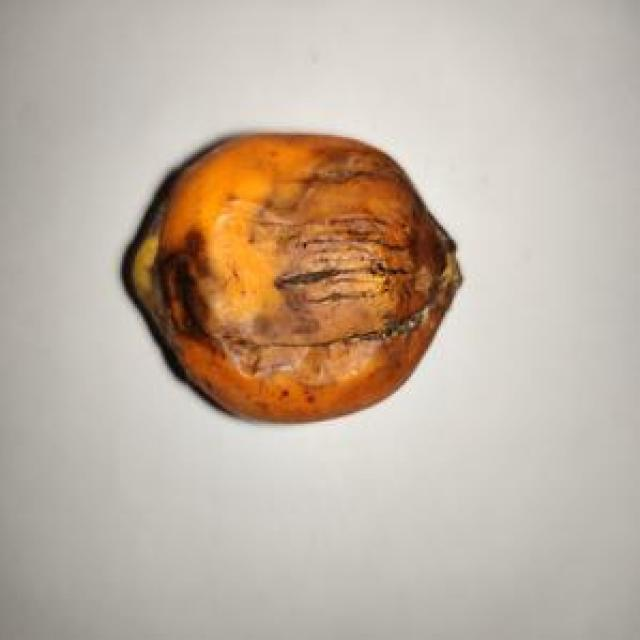damaged: (124, 133, 460, 422)
